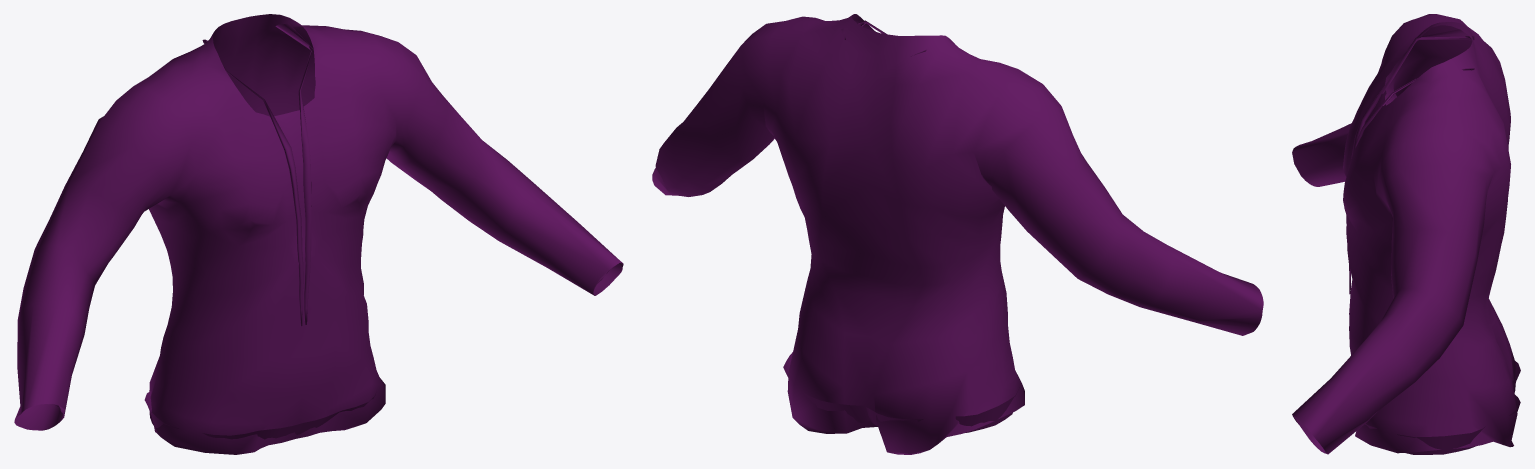
The model's file is blazer_silk.glb.
3 views of the same model, side by side, from view 1: azimuth 30°, elevation 25°; view 2: azimuth 150°, elevation 25°; view 3: azimuth 270°, elevation 25° (orthographic). The views are drawn at different scales.
Visible parts, largest first — view 1: blazer_silk; view 2: blazer_silk; view 3: blazer_silk.
Boxes of the visible parts, x1,y1,x2,y2 form: blazer_silk: [14, 14, 623, 454]; blazer_silk: [652, 14, 1263, 454]; blazer_silk: [1292, 14, 1520, 454].
Bounding box in the file's own units: 1.08 × 0.6792 × 0.3635.
